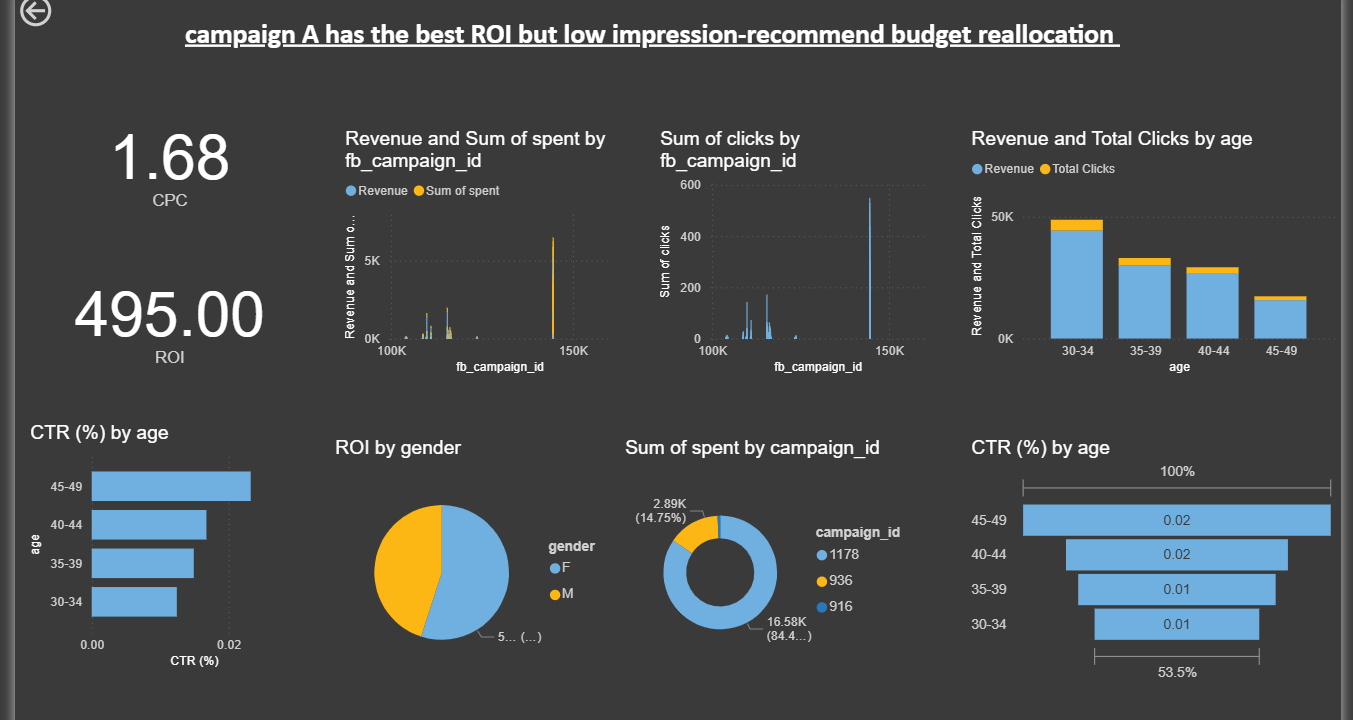

Layout of this report page (visuals, bound fields, positions):
{"tool":"powerbi","page":{"name":"Page 1","canvas":[1280,720],"ordinal":0},"visuals":[{"type":"card","fields":{"Values":["data.CPC"]},"box":[9.7,105,279.9,121.9],"z":0},{"type":"card","fields":{"Values":["data.ROI"]},"box":[9.7,242.5,279.9,149.6],"z":1000},{"type":"pieChart","fields":{"Category":["data.gender"],"Y":["data.ROI"]},"box":[304,430.7,279.9,242.5],"z":2000},{"type":"lineStackedColumnComboChart","fields":{"Category":["data.fb_campaign_id"],"Y":["Sum(data.clicks)"]},"box":[617.7,132.7,279.9,242.5],"z":3000},{"type":"columnChart","fields":{"Category":["data.age"],"Y":["data.Revenue","data.Total Clicks"]},"box":[918.1,132.7,361.9,242.5],"z":4000},{"type":"actionButton","box":[0,0,100,40],"z":5000},{"type":"clusteredBarChart","fields":{"Category":["data.age"],"Y":["data.CTR (%)"]},"box":[9.7,416.2,279.9,242.5],"z":6000},{"type":"lineStackedColumnComboChart","fields":{"Category":["data.fb_campaign_id"],"Y":["data.Revenue","Sum(data.spent)"]},"box":[313.7,132.7,279.9,242.5],"z":7000},{"type":"donutChart","fields":{"Y":["Sum(data.spent)"],"Category":["data.campaign_id"]},"box":[583.9,430.7,279.9,242.5],"z":8000},{"type":"funnel","fields":{"Y":["data.CTR (%)"],"Category":["data.age"]},"box":[918,431,362,242],"z":9000},{"type":"textbox","box":[100.1,20.5,1030.3,68.8],"z":10000}]}

Visuals, with their boxes on the page's 1280x720 design canvas (x1, y1, x2, y2). These are canvas units, not pixel positions in the 1353x720 screenshot, which may show the page scaled, cropped or inside an application window:
card - data.CPC: (10,105,290,227)
card - data.ROI: (10,242,290,392)
pieChart - data.gender x data.ROI: (304,431,584,673)
lineStackedColumnComboChart - data.fb_campaign_id x Sum(data.clicks): (618,133,898,375)
columnChart - data.age x data.Revenue: (918,133,1280,375)
actionButton: (0,0,100,40)
clusteredBarChart - data.age x data.CTR (%): (10,416,290,659)
lineStackedColumnComboChart - data.fb_campaign_id x data.Revenue: (314,133,594,375)
donutChart - Sum(data.spent) x data.campaign_id: (584,431,864,673)
funnel - data.CTR (%) x data.age: (918,431,1280,673)
textbox: (100,20,1130,89)
